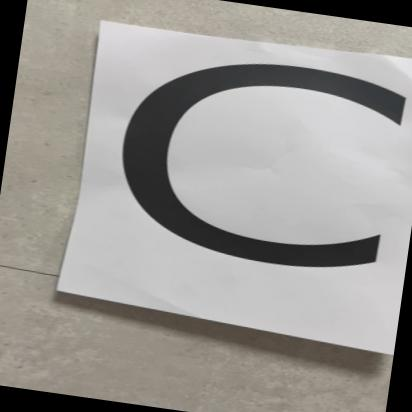seat: (40, 0, 412, 360)
